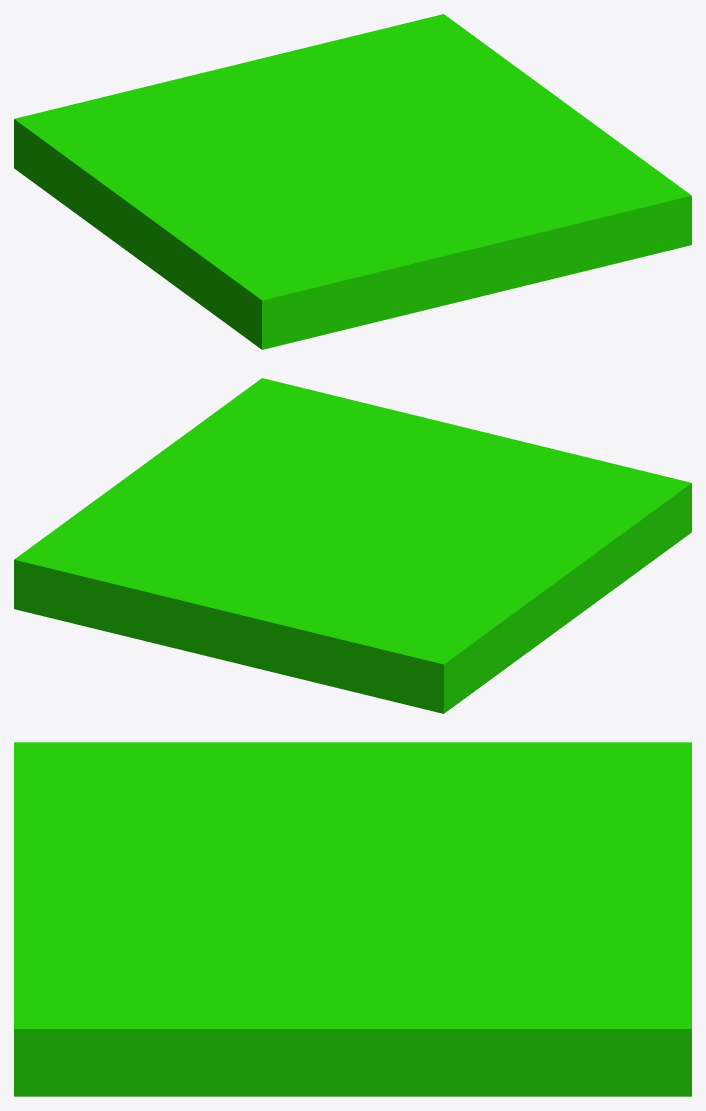
Rendered from Grass.fbx.
3 renders of one model, top to bottom at view 1: azimuth 30°, elevation 25°; view 2: azimuth 150°, elevation 25°; view 3: azimuth 270°, elevation 25°, orthographic. The views are drawn at different scales.
Visible parts, largest first — view 1: трава; view 2: трава; view 3: трава.
Boxes of the visible parts, left/top/right/bottom form: трава: left=14, top=14, right=691, bottom=349; трава: left=14, top=378, right=691, bottom=713; трава: left=14, top=742, right=691, bottom=1096.
Size of the model in its own units: 200 by 21.98 by 200.
